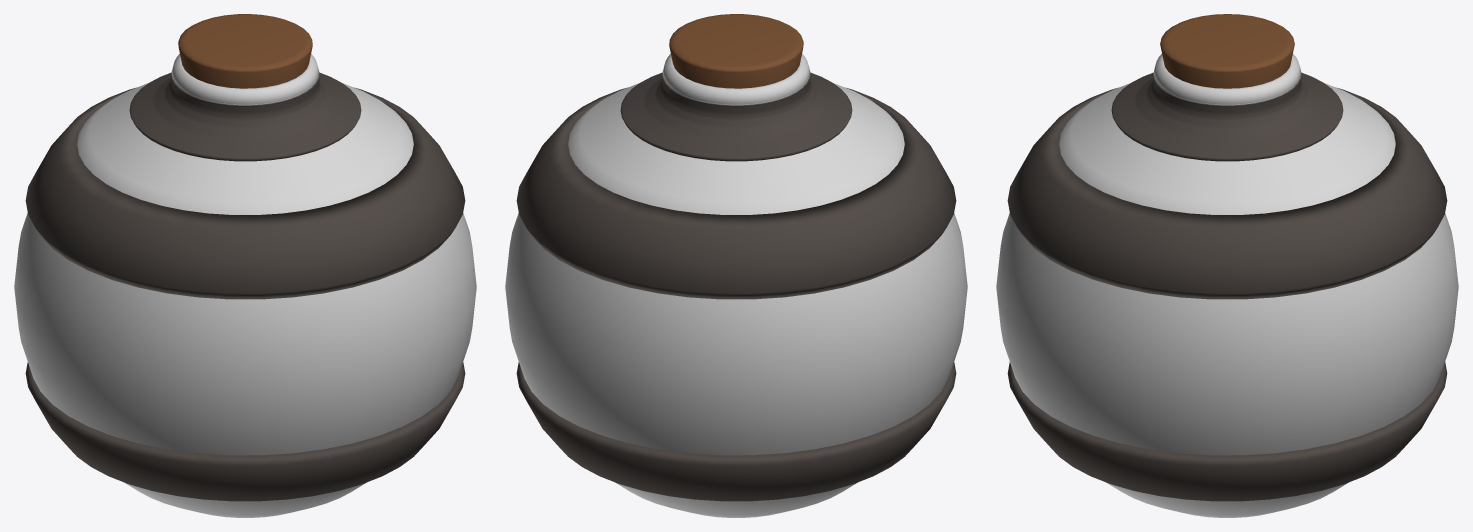
File: healthPotion.glb
3 views of the same model, side by side, from view 1: azimuth 30°, elevation 25°; view 2: azimuth 150°, elevation 25°; view 3: azimuth 270°, elevation 25° (orthographic).
Visible parts, largest first — view 1: Reinf_small_red_20.001, rsr_cork_21.001; view 2: Reinf_small_red_20.001, rsr_cork_21.001; view 3: Reinf_small_red_20.001, rsr_cork_21.001.
Part boxes in pixels (x1,y1,x2,y2): Reinf_small_red_20.001: (14,54,476,517); rsr_cork_21.001: (178,14,312,88); Reinf_small_red_20.001: (505,54,967,517); rsr_cork_21.001: (669,14,803,88); Reinf_small_red_20.001: (996,54,1458,517); rsr_cork_21.001: (1160,14,1294,88).
Bounding box in the file's own units: 0.4575 × 0.4994 × 0.4588.
